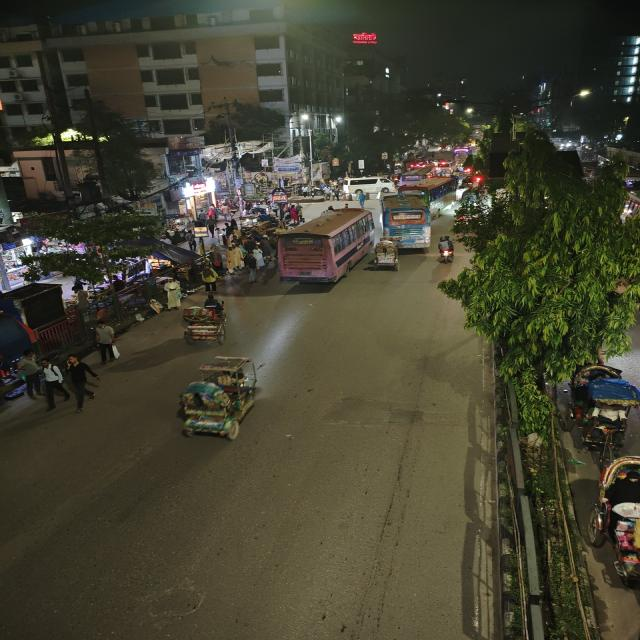bus: (272, 206, 378, 288), (379, 194, 434, 248), (404, 177, 460, 215), (398, 167, 435, 185)
car: (345, 175, 394, 195)
motorcycle: (435, 234, 458, 266)
pedestrian: (64, 355, 102, 412), (35, 359, 69, 410), (14, 348, 45, 399), (88, 321, 121, 365), (157, 275, 185, 311), (209, 242, 232, 278), (242, 249, 262, 283), (198, 266, 220, 293), (251, 244, 268, 274)
rickshaw: (171, 354, 267, 444), (564, 361, 640, 461), (177, 292, 233, 347), (371, 237, 404, 273)
